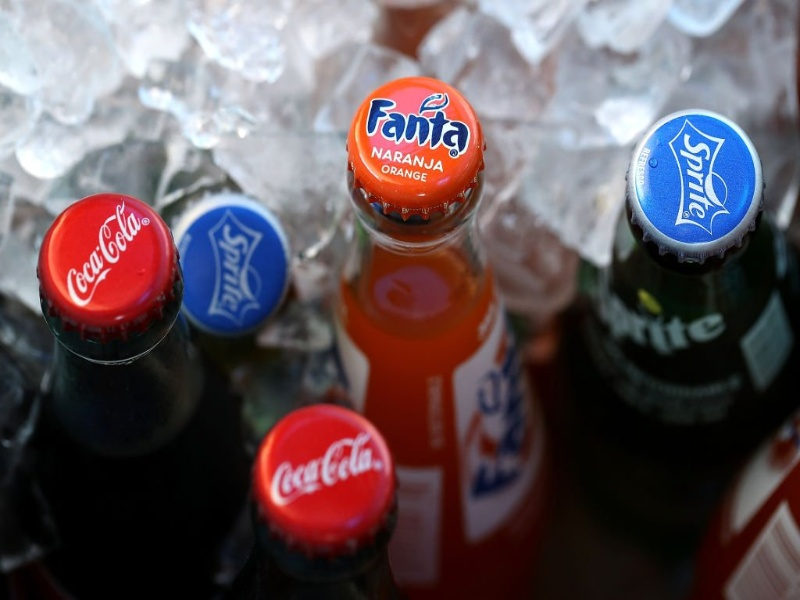Glass bottle: (306, 72, 601, 567)
